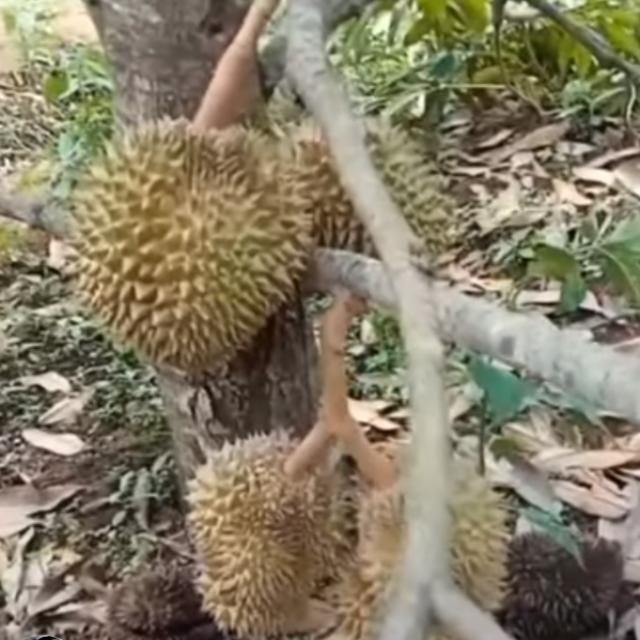defective: (483, 510, 622, 640), (103, 543, 209, 640)
mature: (66, 114, 316, 374), (187, 422, 356, 640)
